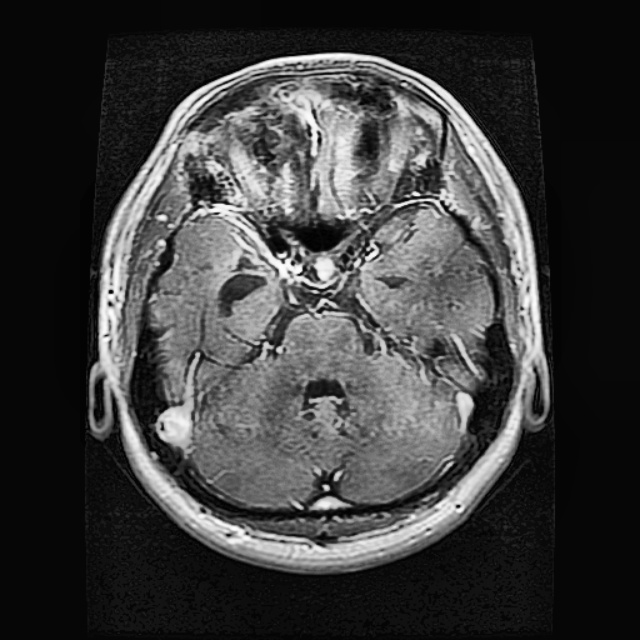Glioma: (213, 253, 269, 319)
